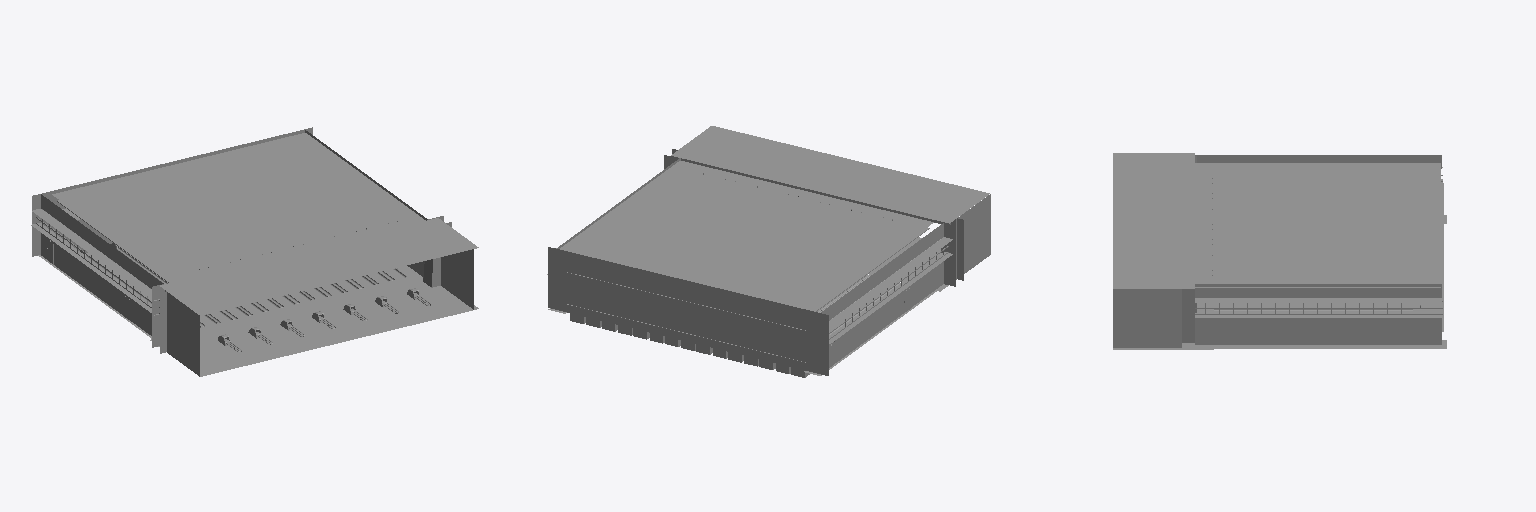
File: bowlingAlley.obj
3 renders of one model, left to right at view 1: azimuth 30°, elevation 25°; view 2: azimuth 150°, elevation 25°; view 3: azimuth 270°, elevation 25°, orthographic.
Visible parts, largest first — view 1: Venue01.lwo; view 2: Venue01.lwo; view 3: Venue01.lwo.
Part boxes in pixels (x1,y1,x2,y2): Venue01.lwo: (31,127,478,376); Venue01.lwo: (547,126,990,377); Venue01.lwo: (1113,153,1446,349).
Size of the model in its own units: 34.37 by 7.97 by 34.09.